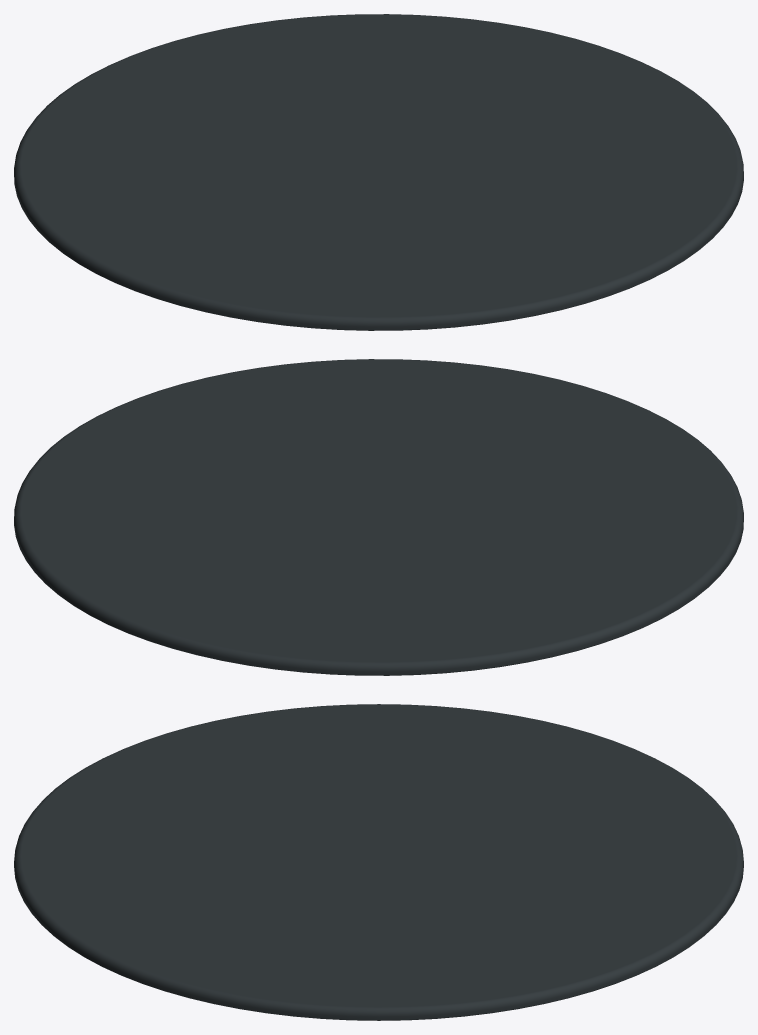
Rendered from table.gltf.
3 renders of one model, top to bottom at view 1: azimuth 30°, elevation 25°; view 2: azimuth 150°, elevation 25°; view 3: azimuth 270°, elevation 25°, orthographic.
Visible parts, largest first — view 1: table_low; view 2: table_low; view 3: table_low.
Part boxes in pixels (bbox=[...]): table_low: bbox=[14, 14, 743, 330]; table_low: bbox=[14, 359, 743, 675]; table_low: bbox=[14, 704, 743, 1020].
Size of the model in its own units: 0.6 by 0.01 by 0.6.
Materials: 1 (1 with a texture image).
